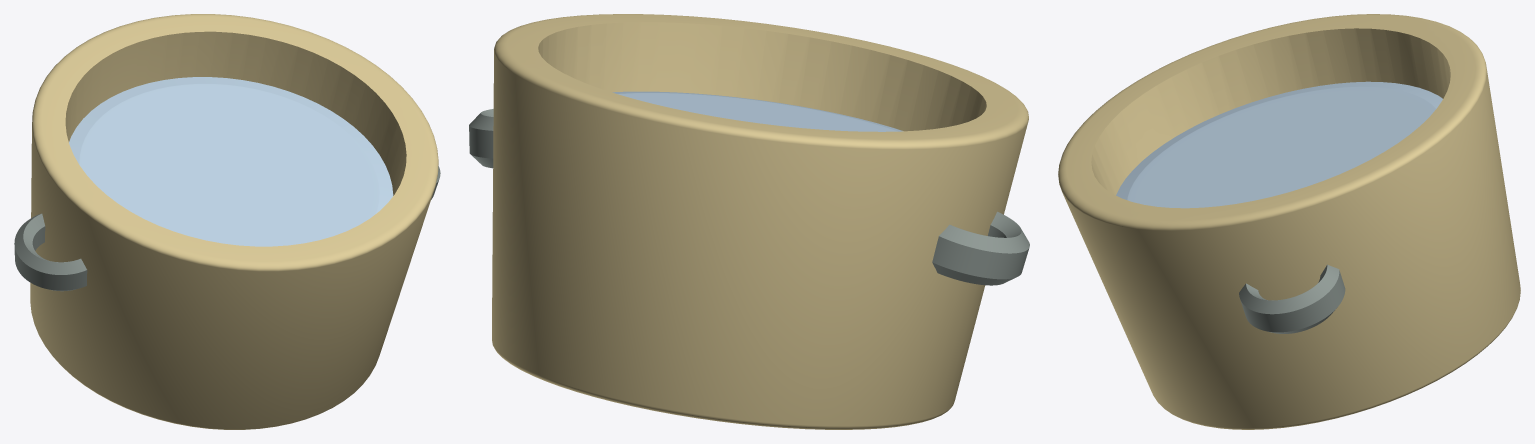
Rendered from pot.glb.
The picture shows the model from 3 angles, left to right: view 1: azimuth 30°, elevation 25°; view 2: azimuth 150°, elevation 25°; view 3: azimuth 270°, elevation 25°; orthographic projection. The views are drawn at different scales.
Parts seen in each view (by area): view 1: Boolean, Water, handle_left; view 2: Boolean, handle_left, Water, handle_right; view 3: Boolean, Water, handle_right.
Part boxes in pixels (bbox=[...]): Boolean: bbox=[30, 14, 438, 429]; Water: bbox=[69, 77, 393, 246]; handle_left: bbox=[14, 213, 87, 291]; Boolean: bbox=[492, 14, 1028, 429]; handle_left: bbox=[932, 211, 1029, 285]; Water: bbox=[612, 91, 903, 131]; handle_right: bbox=[469, 109, 493, 168]; Boolean: bbox=[1058, 14, 1520, 429]; Water: bbox=[1116, 81, 1442, 208]; handle_right: bbox=[1239, 264, 1345, 333].
Size of the model in its own units: 2.31 by 1.55 by 2.06.
